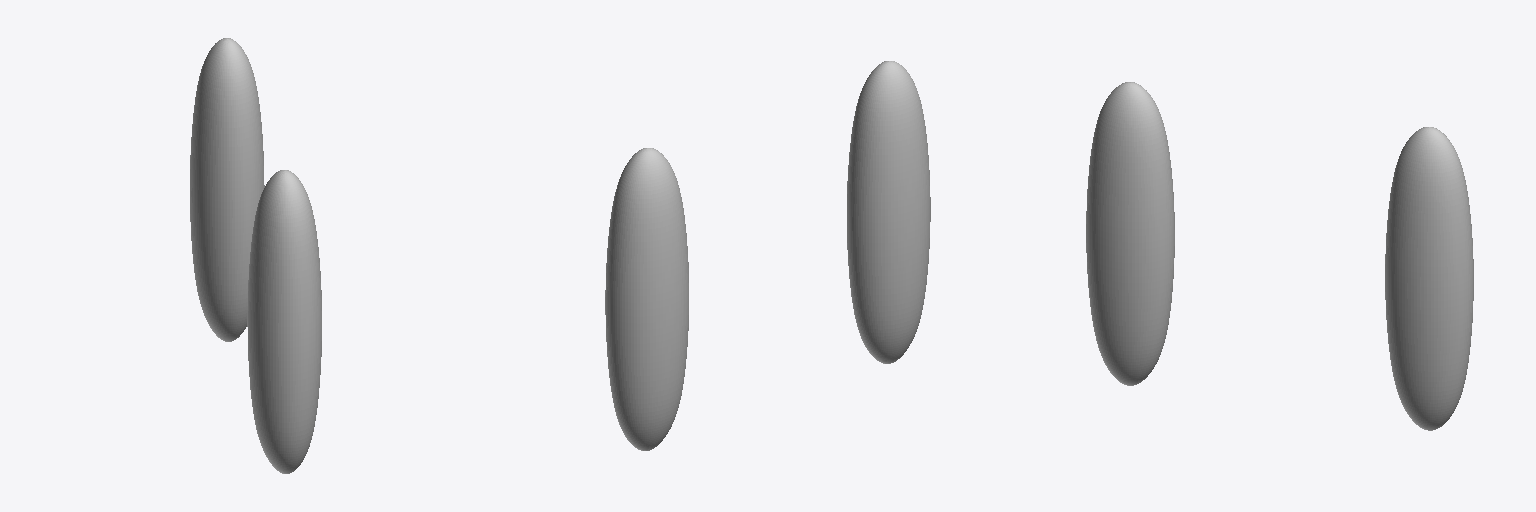
File: CupsyEyesZOBJ.obj
3 views of the same model, side by side, from view 1: azimuth 30°, elevation 25°; view 2: azimuth 150°, elevation 25°; view 3: azimuth 270°, elevation 25° (orthographic).
Visible parts, largest first — view 1: Group14388; view 2: Group14388; view 3: Group14388.
Part boxes in pixels (left/top/right/bottom): Group14388: left=190, top=38, right=321, bottom=473; Group14388: left=605, top=61, right=930, bottom=450; Group14388: left=1086, top=82, right=1473, bottom=430.
Size of the model in its own units: 1.38 by 2.53 by 2.94.